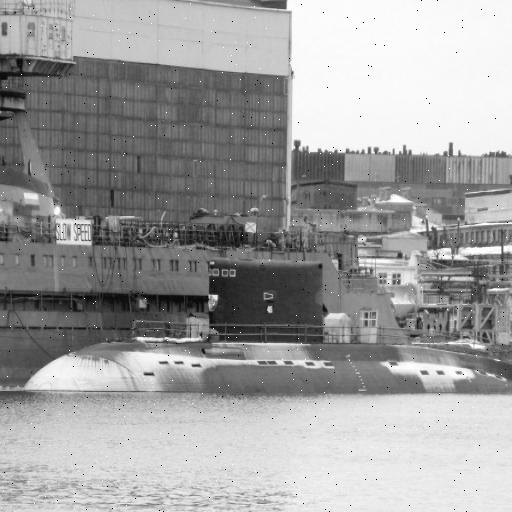submarine: (23, 256, 512, 395)
